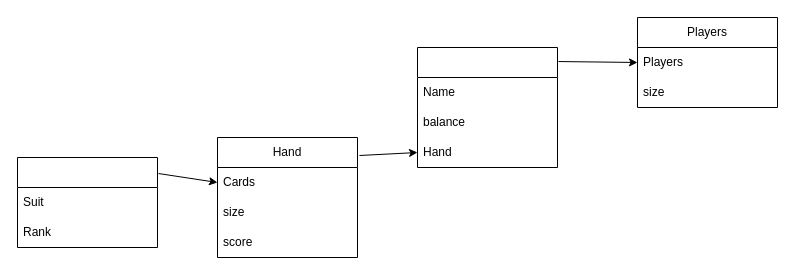
Some shapes in this 795 by 275 pixel diagram are drawn without their labels. Here are the shapes that lost their labels. From the top down, the box of each, then its label:
(416, 46, 558, 168): Player
(16, 156, 158, 248): Card
